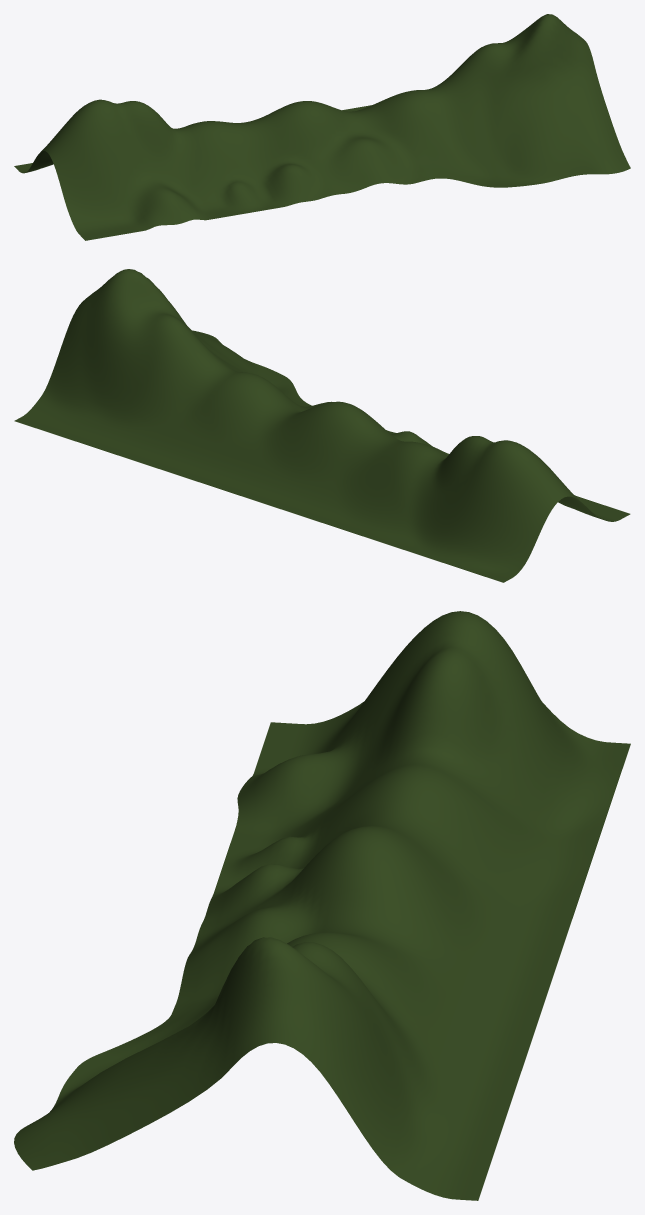
File: mountain.fbx
3 renders of one model, top to bottom at view 1: azimuth 30°, elevation 25°; view 2: azimuth 150°, elevation 25°; view 3: azimuth 270°, elevation 25°, orthographic. The views are drawn at different scales.
Parts seen in each view (by area): view 1: Plane.001; view 2: Plane.001; view 3: Plane.001.
Boxes of the visible parts, bbox=[...] form: Plane.001: bbox=[14, 14, 630, 240]; Plane.001: bbox=[14, 269, 630, 582]; Plane.001: bbox=[14, 611, 630, 1200].
Size of the model in its own units: 1544 by 322 by 841.
